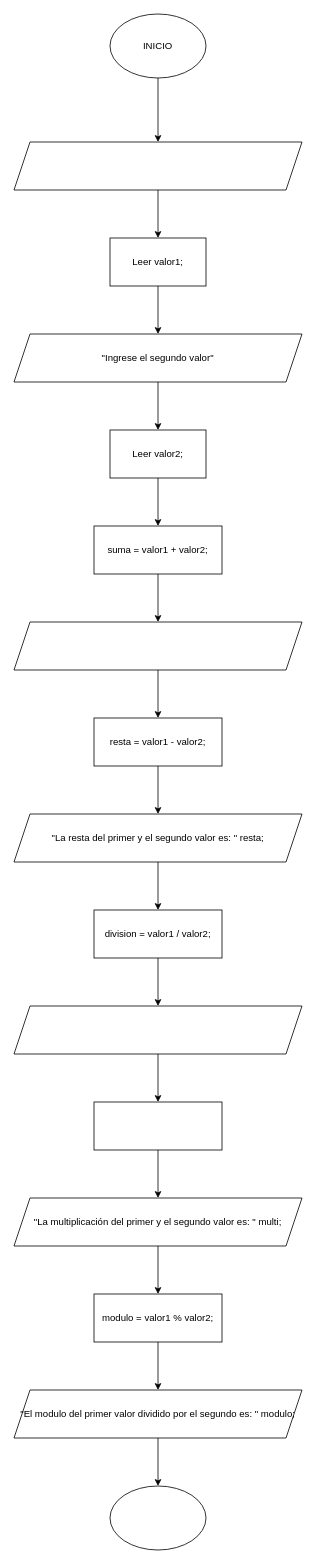
This 316x1564 diagram has some shape labels left out. The centre of each missing label's shape, as x and y in pixels:
"Ingrese el primer valor": pixel 157 165
"La division del primer valor dividido por el segundo es: " division;: pixel 157 1029
"La suma del primer y el segundo valor es: " suma;: pixel 157 645
FIN: pixel 157 1517
multi = valor1 * valor2;: pixel 157 1125
